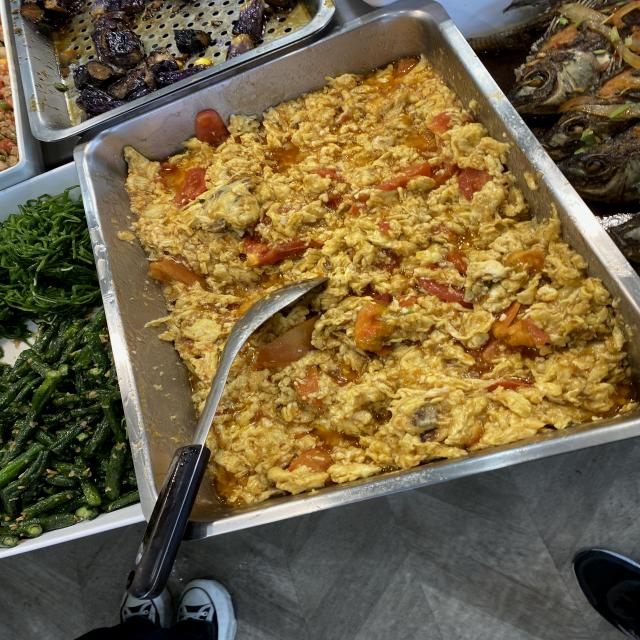Scramble Egg with Tomatoes: (206, 133, 479, 268)
